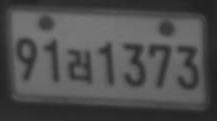1: (95, 42, 118, 85), (42, 39, 64, 82)
3: (122, 42, 146, 87), (176, 45, 200, 89)
7: (149, 44, 172, 88)
9: (15, 37, 38, 81)
러: (67, 48, 92, 85)
